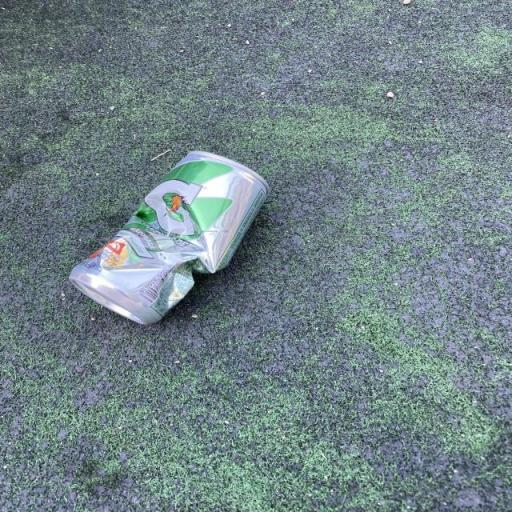metal: (42, 146, 284, 340)
